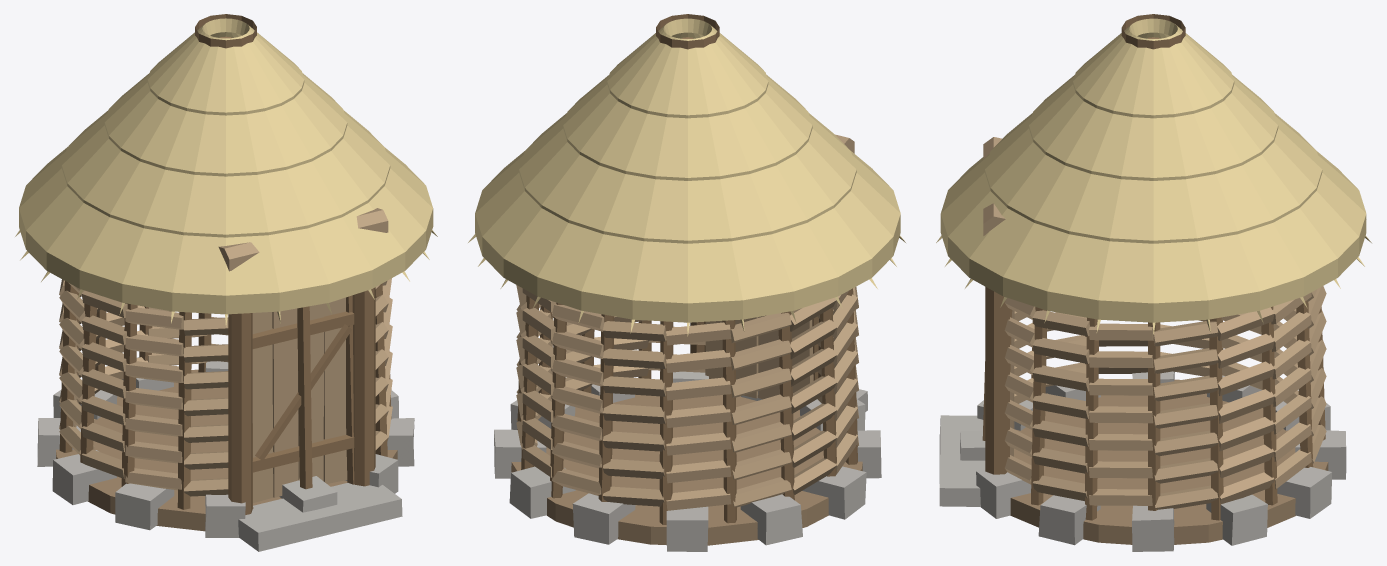
The model's file is building_hut_complete.glb.
3 renders of one model, left to right at view 1: azimuth 30°, elevation 25°; view 2: azimuth 150°, elevation 25°; view 3: azimuth 270°, elevation 25°, orthographic. The views are drawn at different scales.
Visible parts, largest first — view 1: building_hut_complete; view 2: building_hut_complete; view 3: building_hut_complete.
Boxes of the visible parts, x1,y1,x2,y2 form: building_hut_complete: (15,14,437,551); building_hut_complete: (468,14,905,551); building_hut_complete: (936,14,1371,551).
Bounding box in the file's own units: 2.88 × 3.22 × 2.88.
